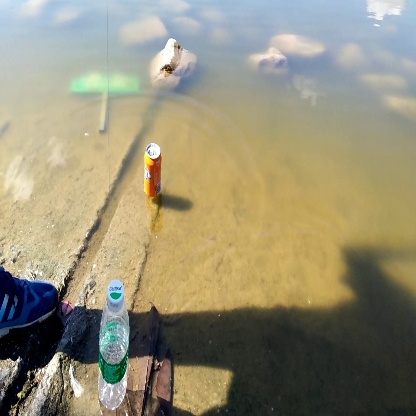bottle: (90, 277, 132, 407), (137, 138, 166, 197)
